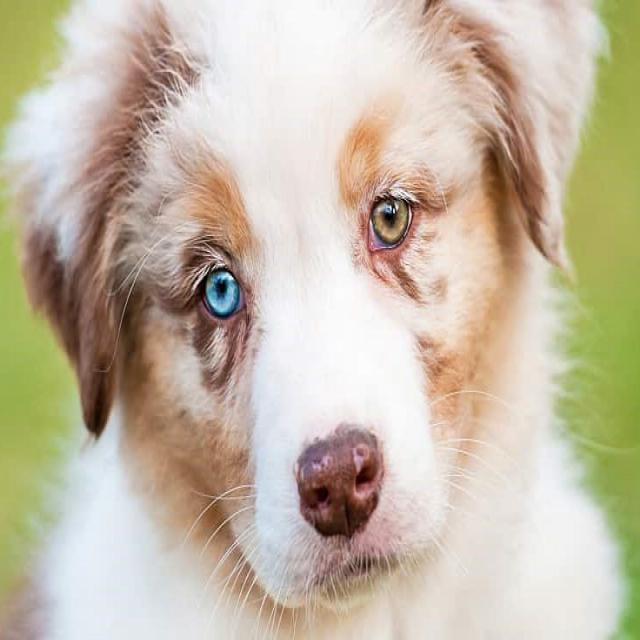eye: (363, 188, 416, 260), (195, 258, 249, 327)
